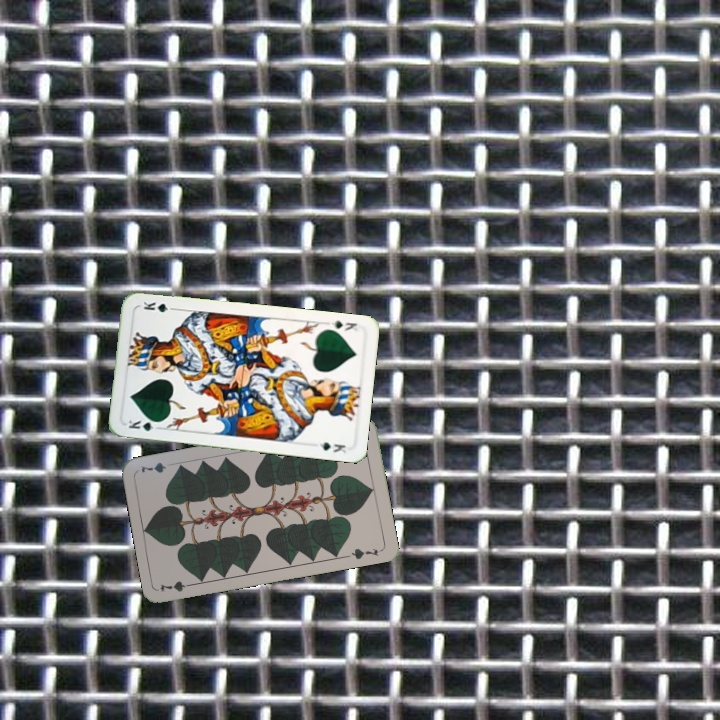G7: (156, 577, 197, 594)
GK: (124, 415, 164, 433), (326, 316, 360, 334)
